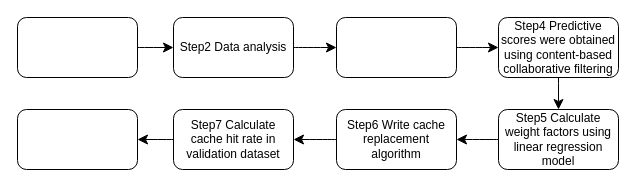
Some shapes in this 636 by 187 pixel diagram are drawn without their labels. The shapes that lost their labels are listed below. From the top down, each one's centre as x and y in pixels, then its label:
(x=77, y=47): Step1 Data set processing
(x=396, y=47): Step3 Data set partitioning
(x=77, y=139): Step8 Cache hit rate against traditional solutions
